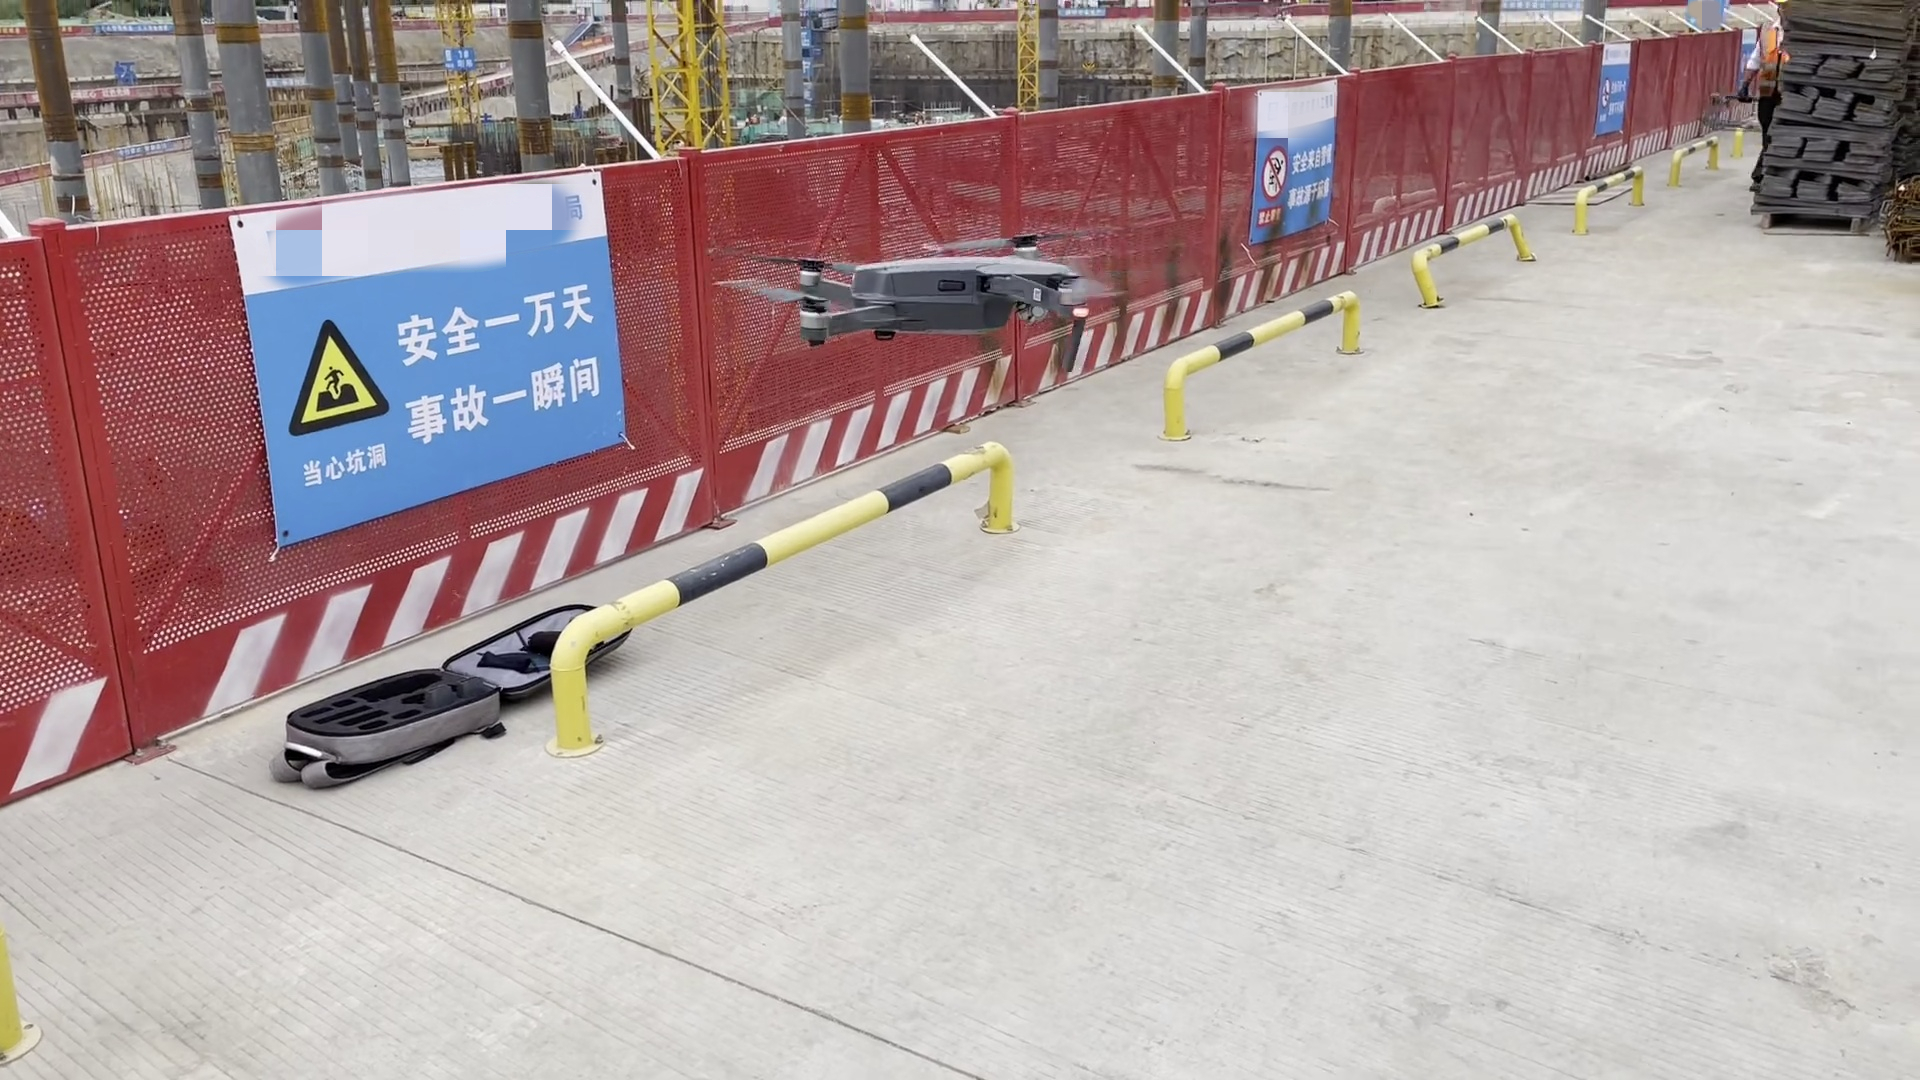fence: (1, 111, 1447, 873)
person: (1746, 15, 1793, 145)
slogan: (273, 195, 612, 512), (1261, 127, 1339, 229), (97, 24, 173, 35), (63, 87, 134, 99), (117, 144, 173, 154), (455, 48, 477, 70)
